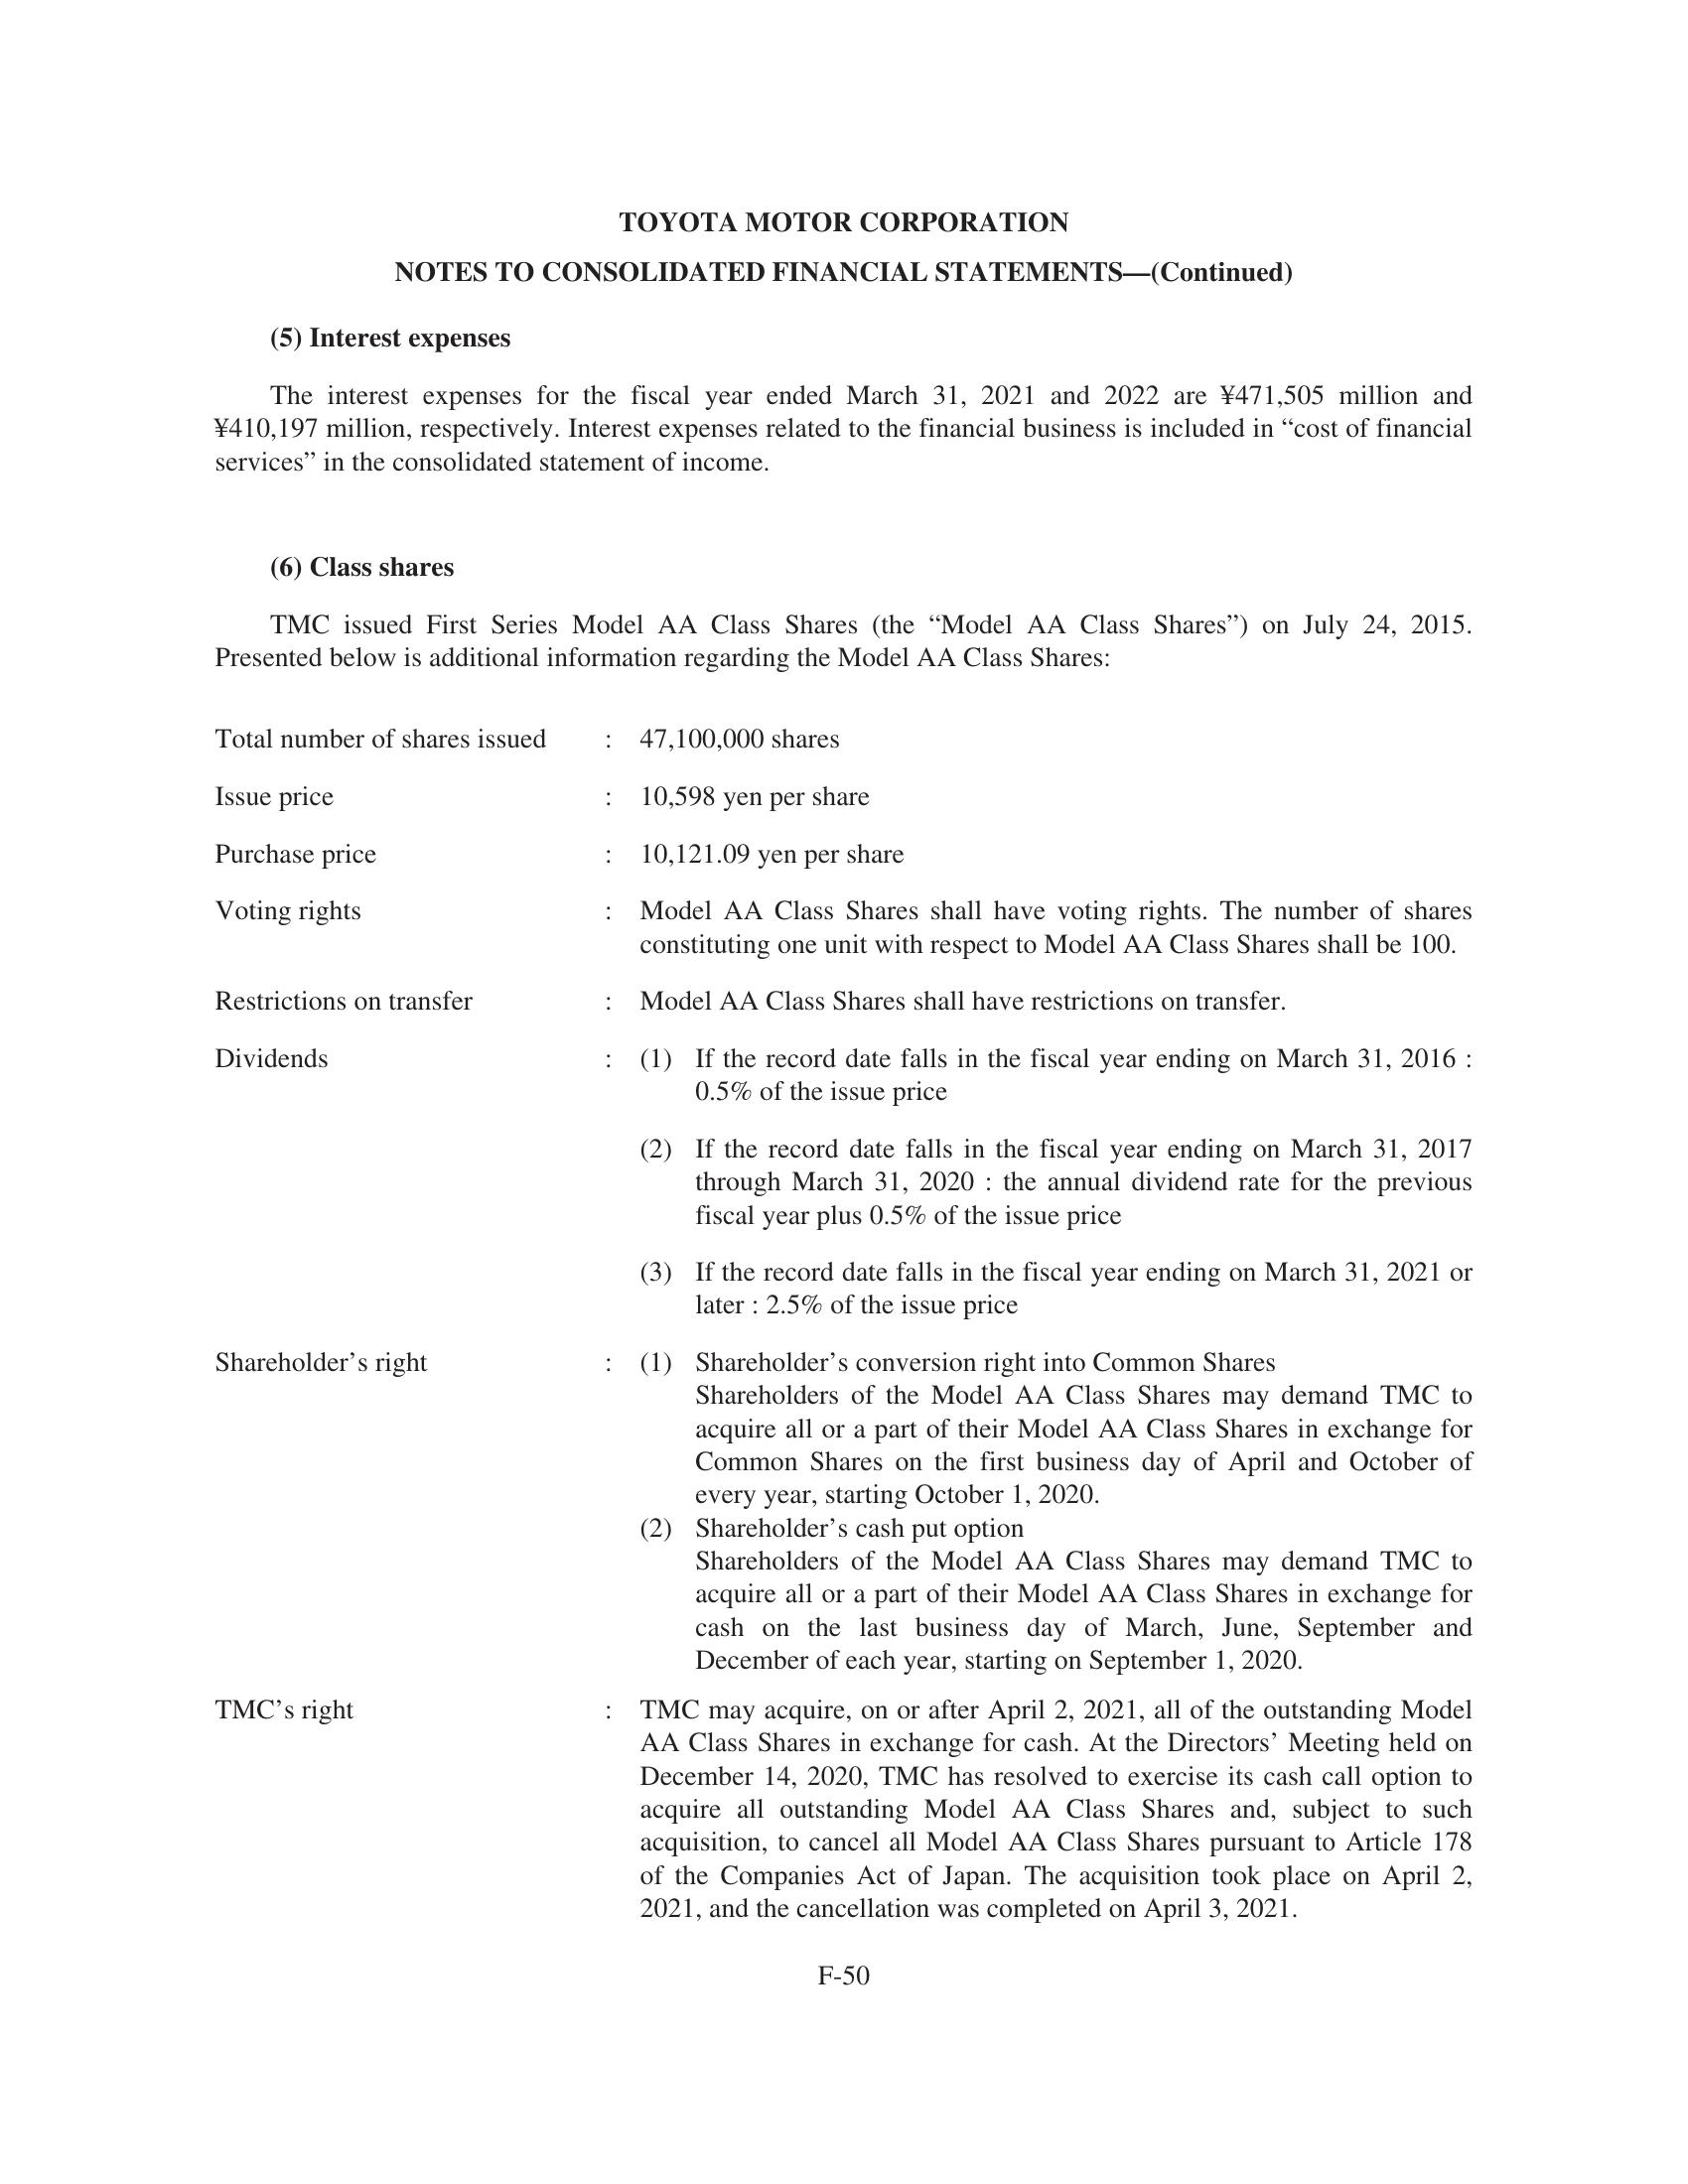Footer: (0, 1946, 1688, 2184)
Header: (0, 0, 1688, 158)
Table: (152, 684, 1551, 1941)
